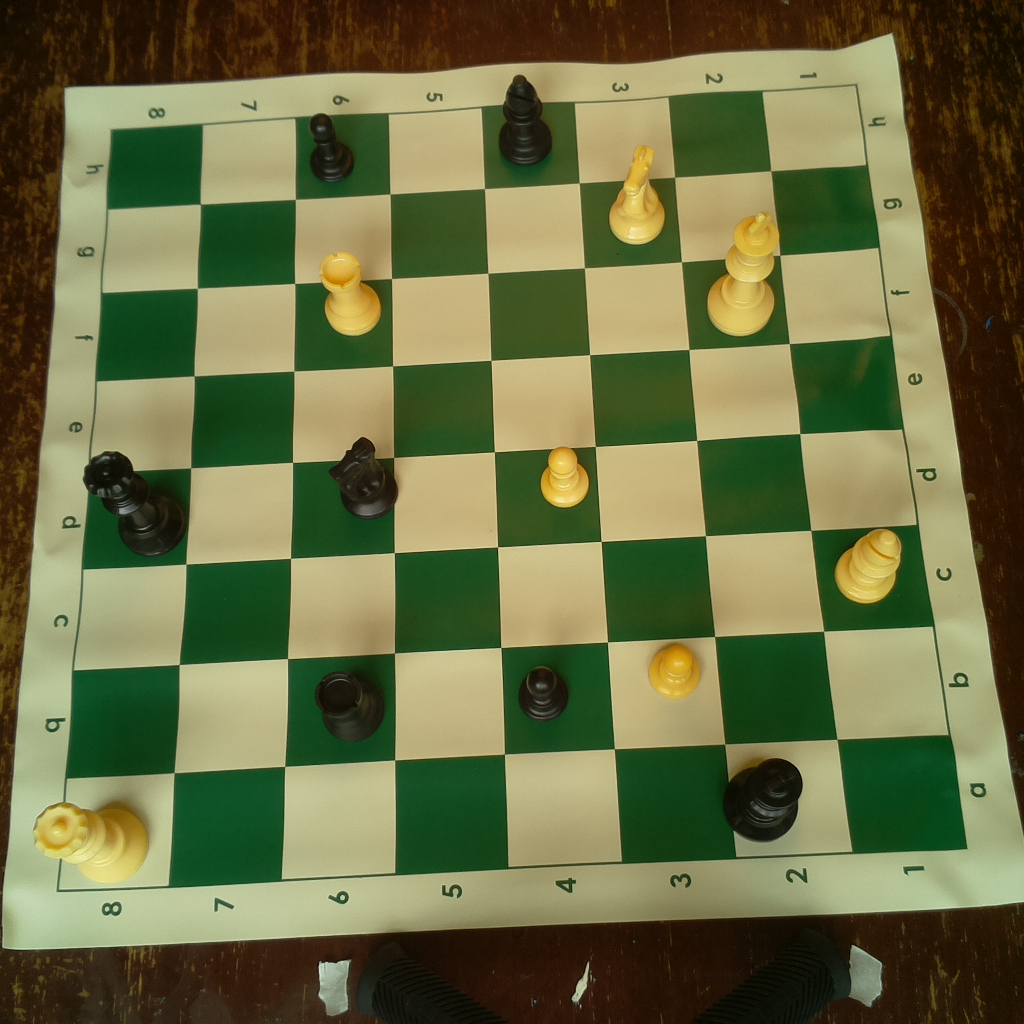black_bishop: (494, 74, 557, 169)
black_king: (718, 751, 811, 841)
black_knight: (323, 428, 401, 523)
black_pawn: (298, 110, 357, 187), (512, 662, 579, 725)
black_queen: (80, 445, 192, 564)
black_rook: (312, 666, 389, 744)
file_a: (57, 734, 966, 891)
file_b: (67, 625, 951, 779)
file_c: (73, 526, 936, 667)
file_d: (83, 428, 919, 571)
file_e: (88, 335, 906, 471)
file_f: (98, 248, 889, 384)
file_g: (103, 167, 880, 292)
file_h: (106, 87, 867, 213)
outline: (53, 86, 966, 886)
rank_1: (763, 84, 968, 854)
rank_2: (671, 90, 853, 858)
rank_3: (572, 99, 737, 861)
rank_4: (481, 102, 623, 867)
rank_5: (392, 105, 512, 874)
rank_6: (281, 115, 392, 877)
rank_7: (168, 115, 296, 890)
rank_8: (55, 125, 206, 896)
white_bishop: (831, 523, 905, 605)
white_king: (699, 206, 784, 336)
white_knight: (606, 138, 667, 247)
white_pawn: (529, 440, 593, 509), (644, 636, 706, 701)
white_queen: (29, 797, 155, 883)
white_rook: (314, 251, 383, 338)
